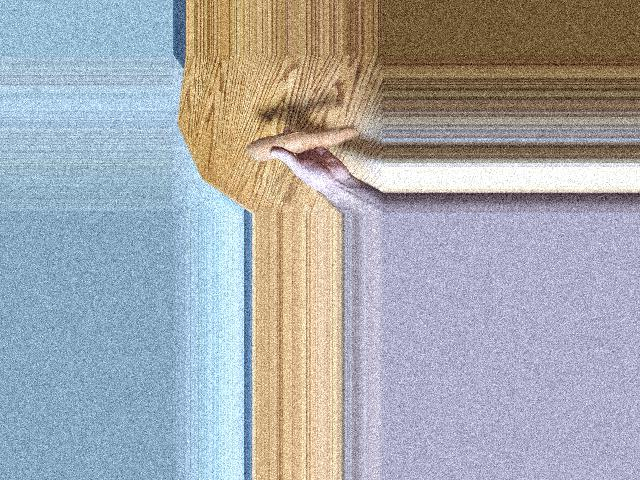sweet_potato: (248, 130, 357, 151)
